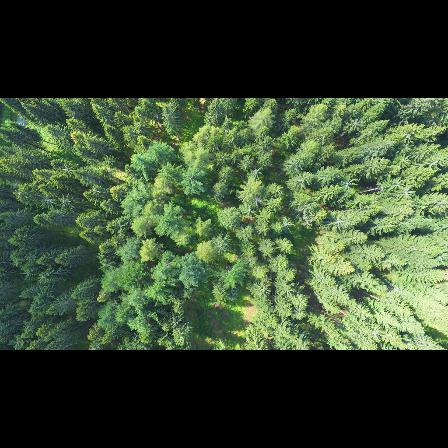Sick: (61, 161, 75, 178), (38, 193, 53, 208)
